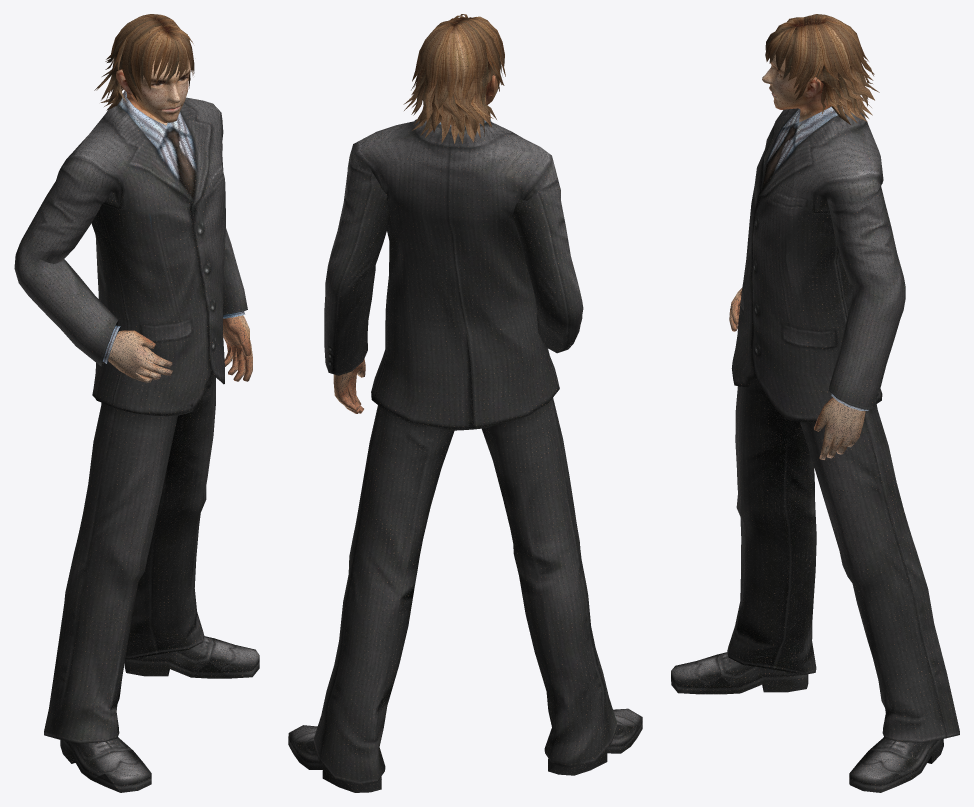
File: AyaktaInsan.fbx
3 renders of one model, left to right at view 1: azimuth 30°, elevation 25°; view 2: azimuth 150°, elevation 25°; view 3: azimuth 270°, elevation 25°, orthographic. The views are drawn at different scales.
Parts seen in each view (by area): view 1: body1; view 2: body1; view 3: body1.
Boxes of the visible parts, x1,y1,x2,y2 form: body1: (14,14,259,792); body1: (288,14,642,792); body1: (671,14,959,792).
Size of the model in its own units: 30.95 by 80.13 by 29.52.
